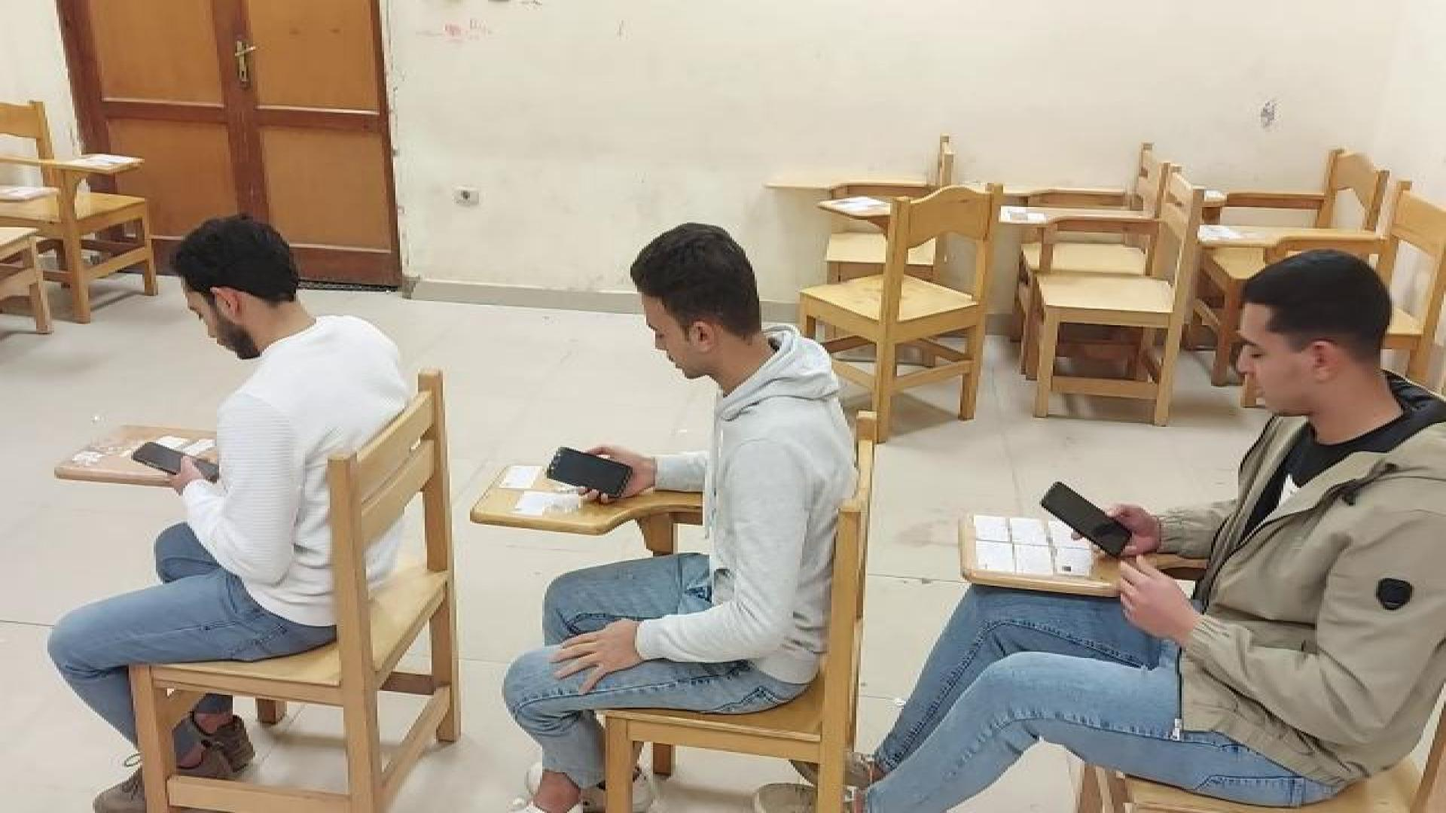phone: (1042, 481, 1141, 557), (546, 448, 634, 501), (133, 438, 221, 486)
